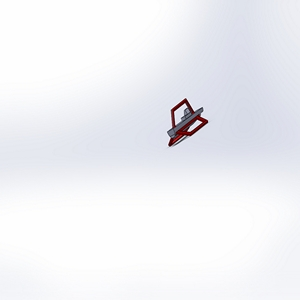submarine: (157, 96, 216, 153)
